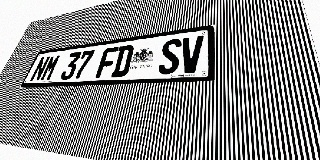3: (59, 52, 82, 80)
7: (72, 50, 95, 80)
D: (111, 44, 135, 77)
F: (95, 47, 119, 78)
M: (39, 54, 62, 81)
N: (29, 56, 51, 82)
S: (157, 38, 182, 75)
V: (179, 35, 204, 74)
